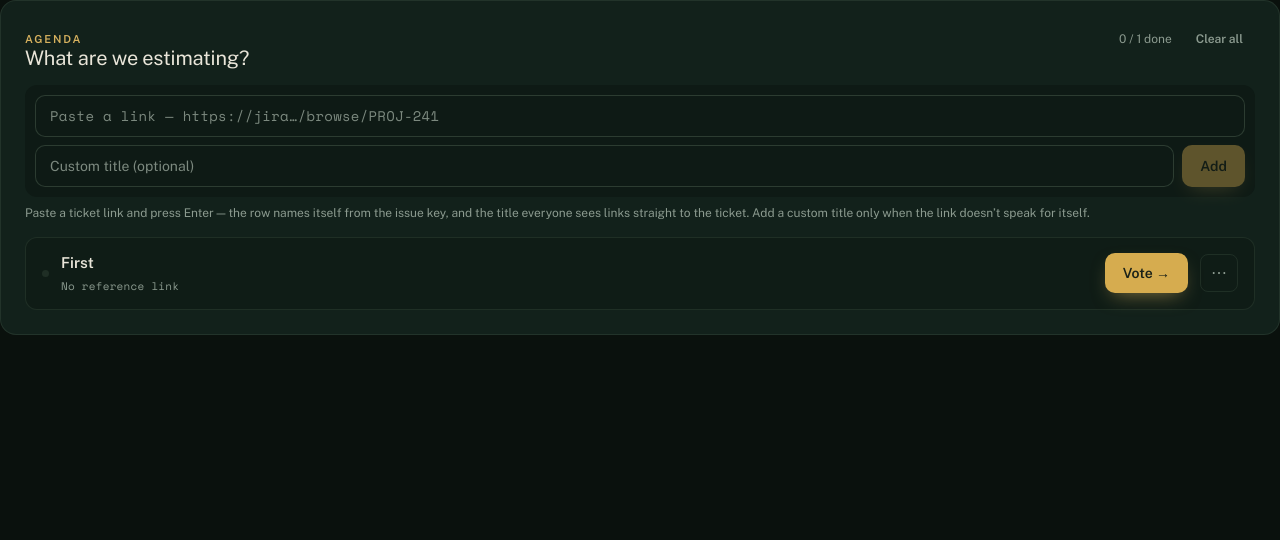
Test: Agenda › clear all › backs out of a row menu opened over the prompt without losing the prompt
Step 1. Click the button "Clear all" → {"x": 1219, "y": 39}, box top-left (1184, 25), bottom-right (1255, 53)
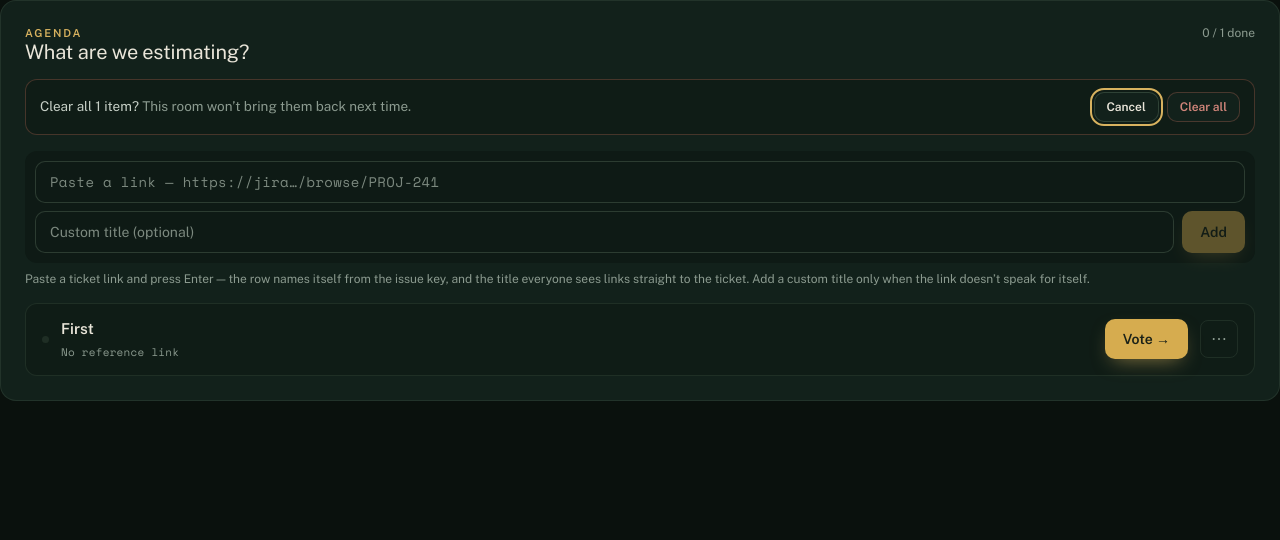
Step 2. Click the button named "more actions" → {"x": 1219, "y": 339}, box top-left (1200, 320), bottom-right (1238, 358)
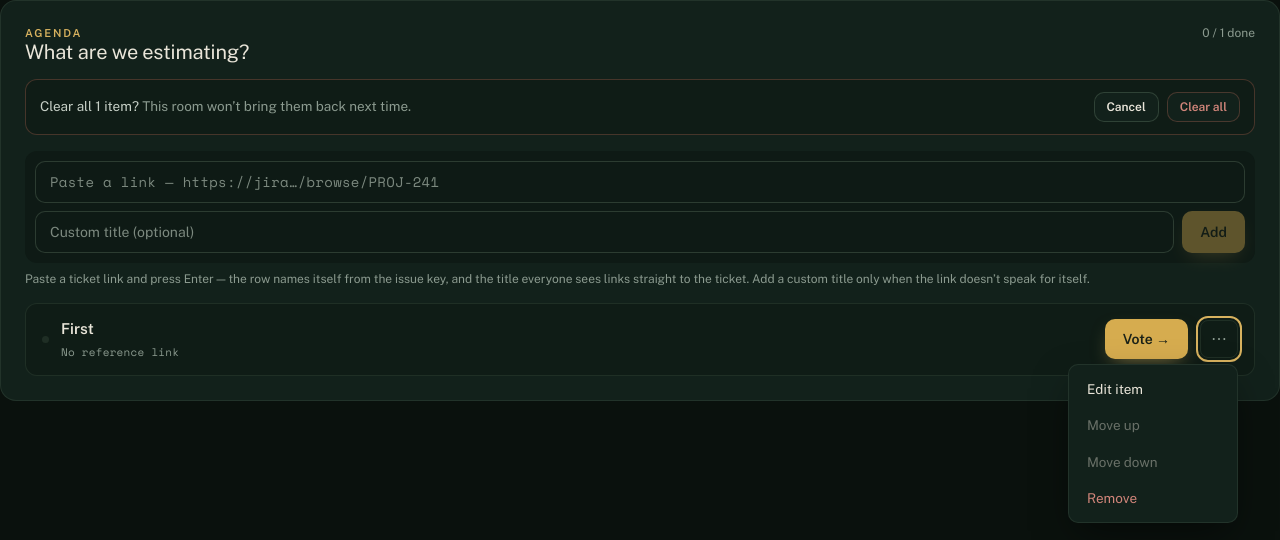
Step 3. Press Escape
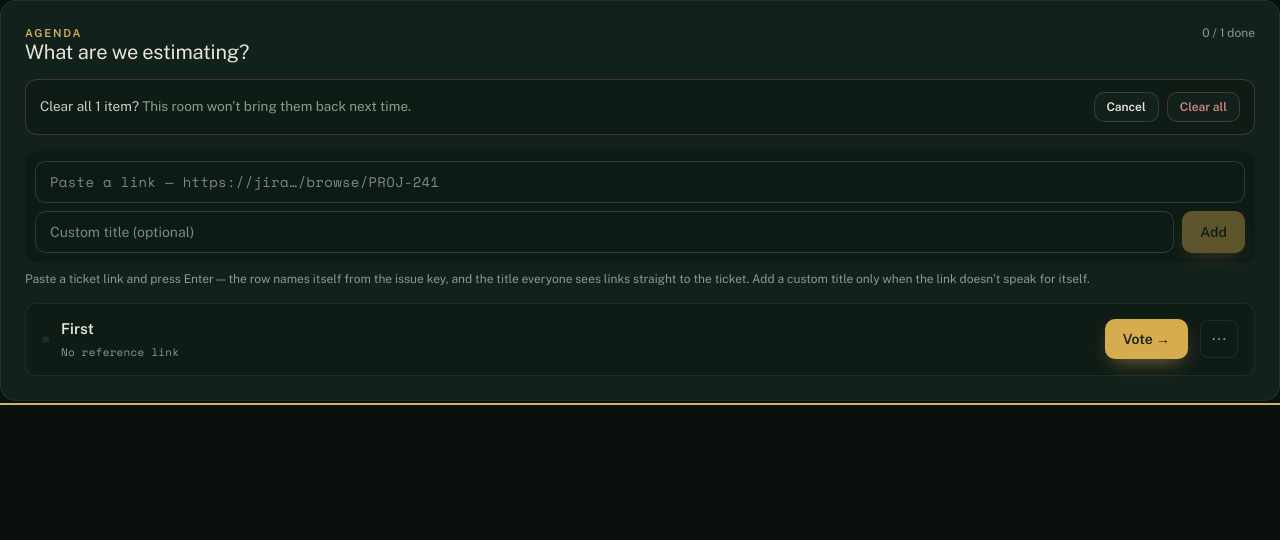
Expected: the text "This room won’t bring them back next time." is shown, top-left (142, 98), bottom-right (411, 114)
Expected: the button "Remove" is gone
Step 4. Press Escape
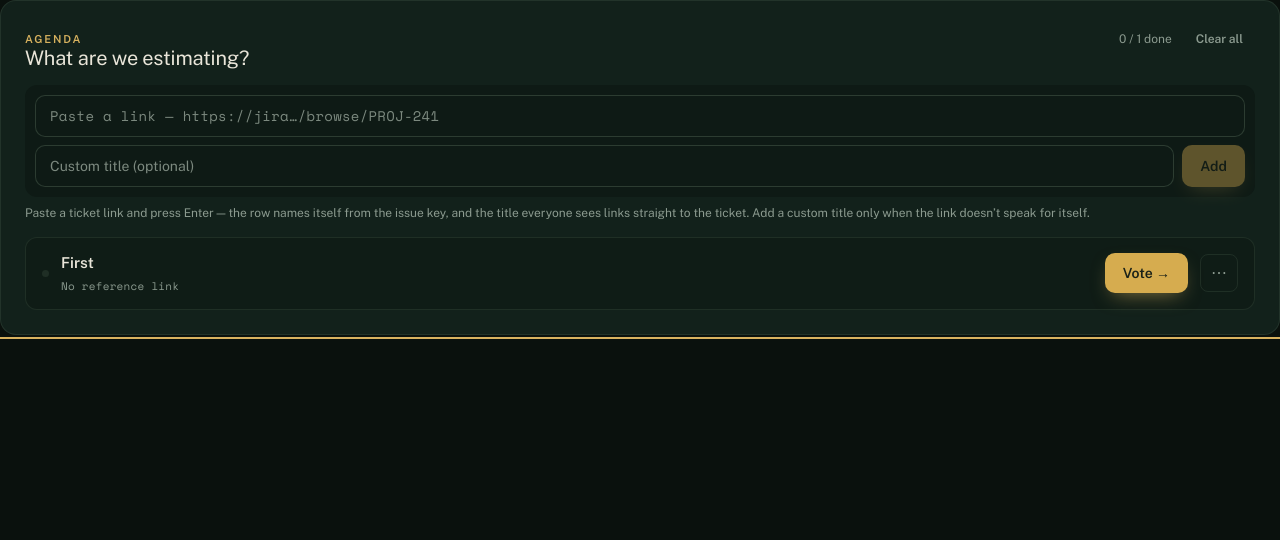
Expected: the text "won.t bring them back" is gone
